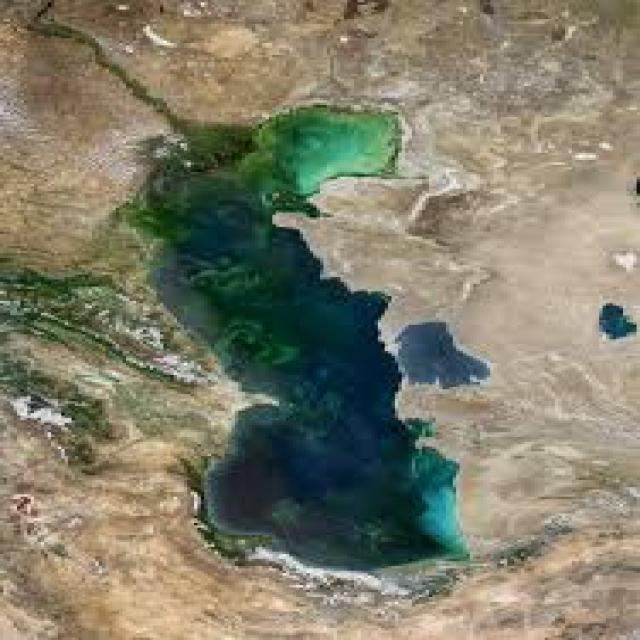algal: (133, 106, 462, 565)
